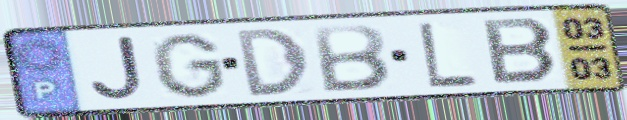B: (310, 23, 393, 95), (479, 16, 562, 86)
D: (231, 26, 313, 99)
G: (147, 31, 230, 101)
J: (87, 34, 146, 103)
L: (414, 19, 482, 89)
